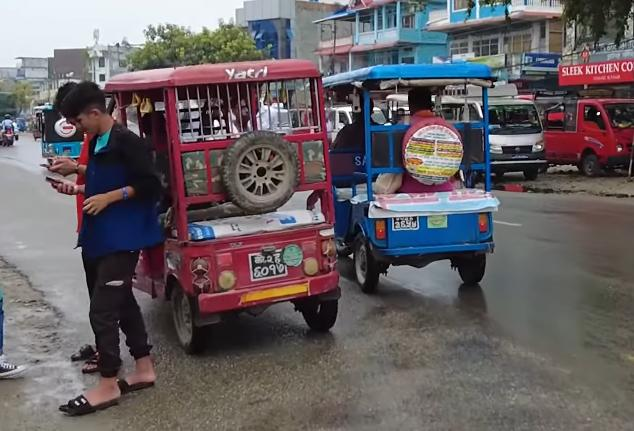e-rickshaw: (73, 54, 341, 360), (311, 58, 502, 289), (38, 103, 83, 167)
